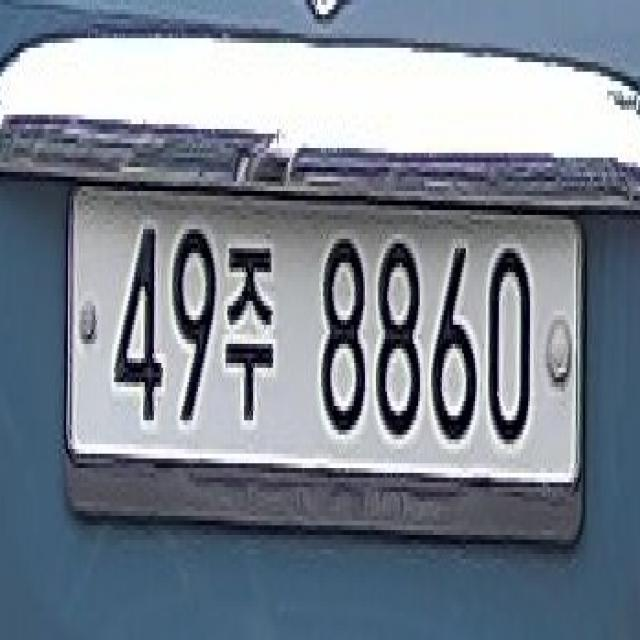0: (484, 235, 534, 448)
4: (108, 226, 166, 427)
6: (430, 230, 477, 462)
8: (370, 232, 424, 462), (312, 234, 367, 448)
9: (166, 222, 220, 434)
ju: (223, 227, 276, 453)
license_plate: (60, 189, 590, 528)
